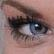eye: (30, 23, 46, 34)
